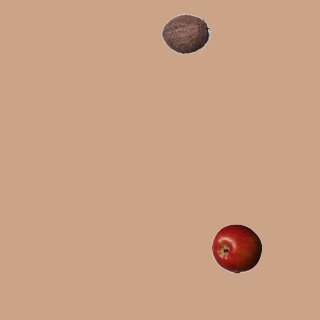Apple Braeburn: (211, 223, 261, 273)
Cocos: (160, 8, 210, 58)
